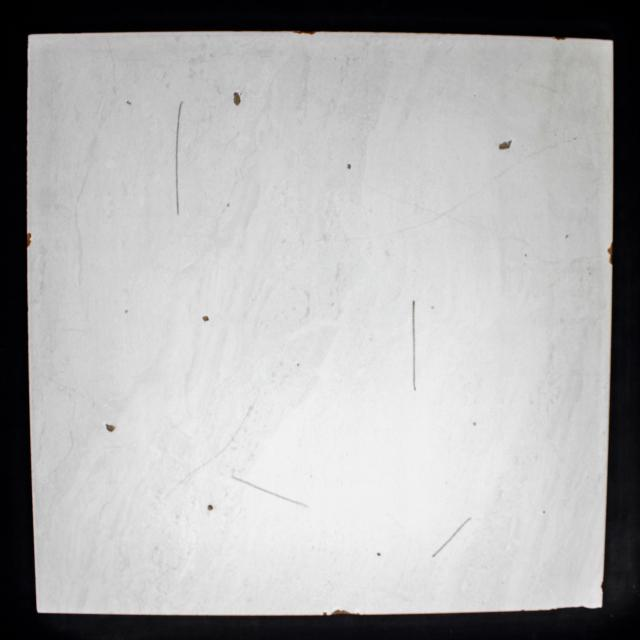edge-chipping: (329, 609, 362, 616), (554, 605, 591, 611), (606, 242, 613, 266), (290, 31, 317, 35), (26, 232, 32, 248), (554, 37, 566, 41), (322, 613, 327, 616)
hole: (498, 140, 512, 150), (233, 92, 241, 105), (106, 423, 115, 432), (202, 315, 210, 322), (346, 163, 352, 170), (125, 100, 132, 106), (208, 505, 214, 511), (377, 552, 382, 556)
line: (394, 171, 504, 233), (230, 476, 306, 507), (432, 516, 473, 557), (514, 140, 571, 166), (223, 405, 253, 451), (181, 451, 222, 480), (174, 100, 184, 217), (412, 299, 418, 391)
